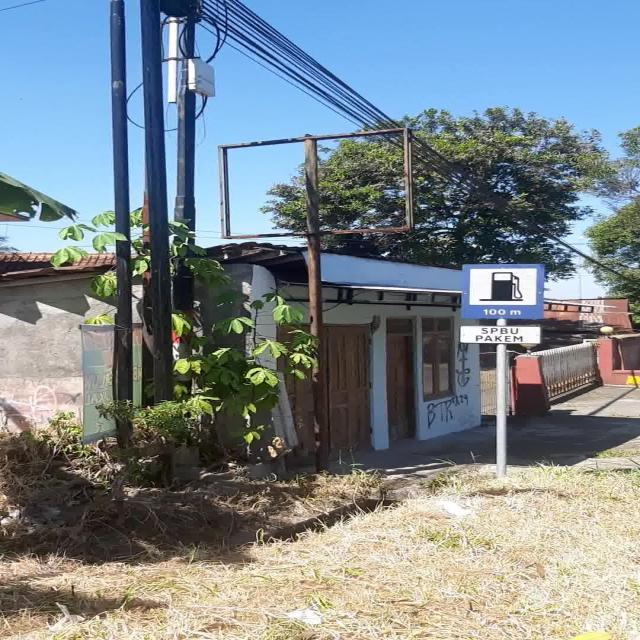Pom Bensin: (461, 264, 544, 319)
